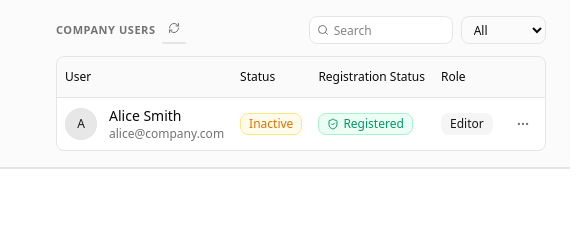
CompanyUsersRow — status action menu › offers Activate user for an inactive, non-removed user
The width and height of the screenshot is (587, 227).
Expected: the text "Alice Smith" is shown, [109, 106, 182, 124]
Click the button named "Actions for Alice Smith": click(523, 124) [509, 110, 537, 138]
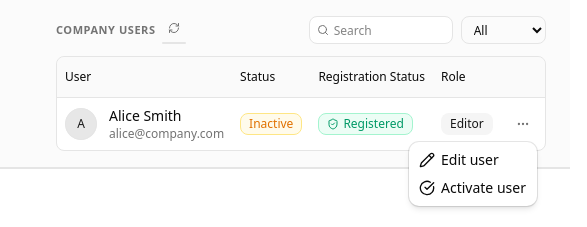
Result: the menu item "Activate user" is shown at [413, 174, 533, 202]
